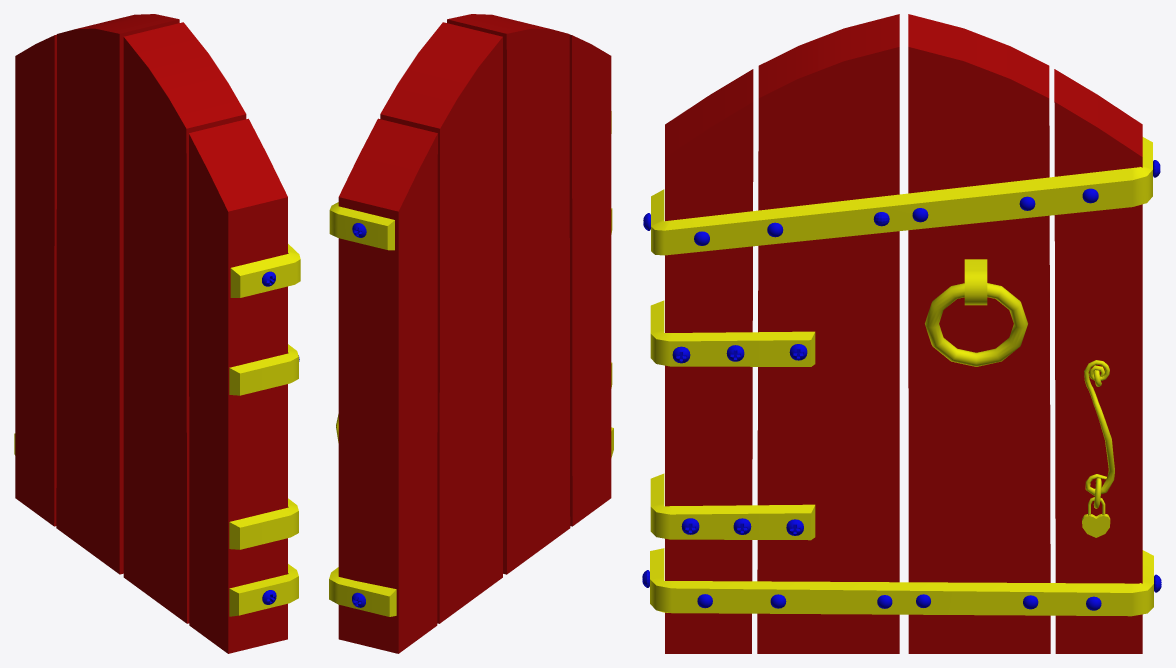
File: door_lp.fbx
The picture shows the model from 3 angles, left to right: view 1: azimuth 30°, elevation 25°; view 2: azimuth 150°, elevation 25°; view 3: azimuth 270°, elevation 25°; orthographic projection. The views are drawn at different scales.
Parts seen in each view (by area): view 1: pasted___04wood_low, pasted___03wood_low, pasted___03wood_low1, pasted___04wood_low1, pasted___01metal_top_low, pasted___02metal_top_low1, pasted___02metal_top_low, pasted___04metal_top_low; view 2: pasted___04wood_low1, pasted___03wood_low1, pasted___03wood_low, pasted___04wood_low, pasted___01metal_top_low, pasted___04metal_top_low; view 3: pasted___03wood_low, pasted___03wood_low1, pasted___04wood_low1, pasted___04wood_low, pasted___01metal_top_low, pasted___04metal_top_low, pasted___02metal_top_low, pasted___02metal_top_low1, pasted___07metal_top_low, pasted___10metal_top_low, pasted___06metal_top_low.
Boxes of the visible parts, box(x1,y1,x2,y2) form: pasted___04wood_low: box(189, 118, 287, 653); pasted___03wood_low: box(123, 22, 246, 623); pasted___03wood_low1: box(56, 14, 179, 574); pasted___04wood_low1: box(15, 34, 56, 526); pasted___01metal_top_low: box(230, 244, 300, 297); pasted___02metal_top_low1: box(229, 498, 298, 549); pasted___02metal_top_low: box(229, 344, 298, 395); pasted___04metal_top_low: box(14, 433, 298, 616); pasted___04wood_low1: box(338, 118, 437, 653); pasted___03wood_low1: box(380, 22, 502, 623); pasted___03wood_low: box(447, 14, 570, 574); pasted___04wood_low: box(569, 34, 611, 526); pasted___01metal_top_low: box(329, 111, 611, 250); pasted___04metal_top_low: box(329, 427, 613, 616); pasted___03wood_low: box(757, 14, 899, 653); pasted___03wood_low1: box(908, 14, 1050, 653); pasted___04wood_low1: box(1054, 69, 1142, 653); pasted___04wood_low: box(665, 69, 753, 653); pasted___01metal_top_low: box(651, 137, 1152, 255); pasted___04metal_top_low: box(650, 548, 1153, 616); pasted___02metal_top_low: box(650, 300, 815, 366); pasted___02metal_top_low1: box(650, 473, 815, 540); pasted___07metal_top_low: box(925, 283, 1027, 366); pasted___10metal_top_low: box(1084, 360, 1114, 495); pasted___06metal_top_low: box(964, 259, 987, 305).
Size of the model in its own units: 13.8 by 75.31 by 58.38.
